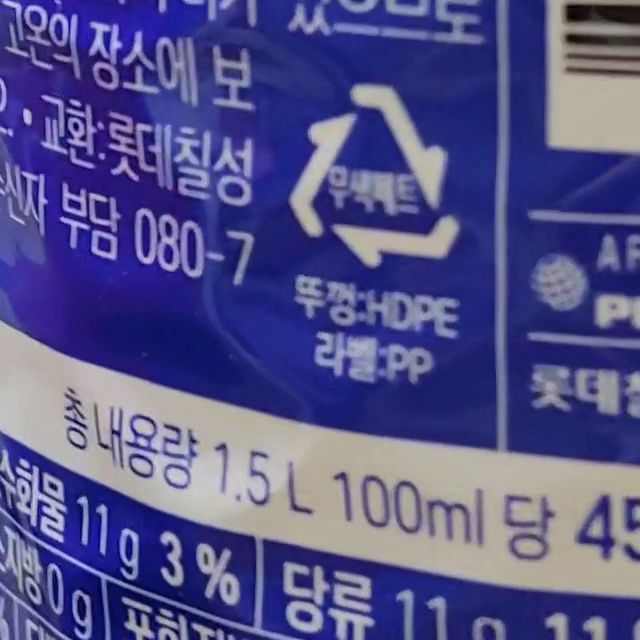ColorlessPet: (288, 82, 459, 267)
